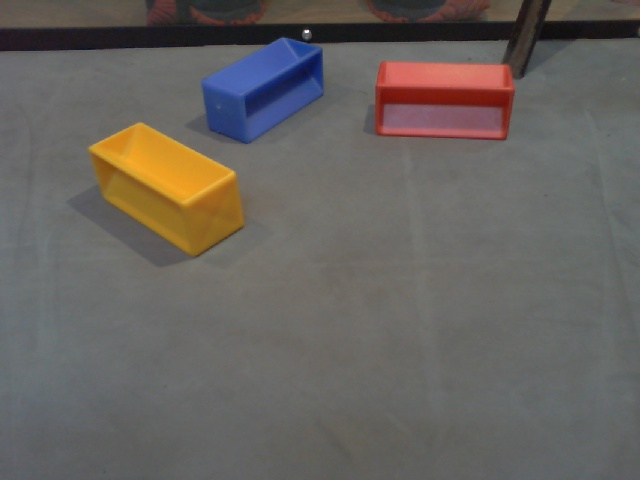BlueSample: (199, 36, 322, 143)
RedSample: (373, 58, 517, 145)
YellowSample: (85, 120, 248, 258)
